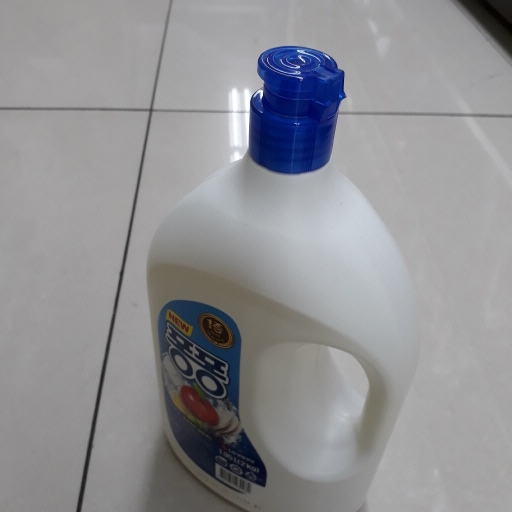Plastic_1: (150, 47, 421, 512)
